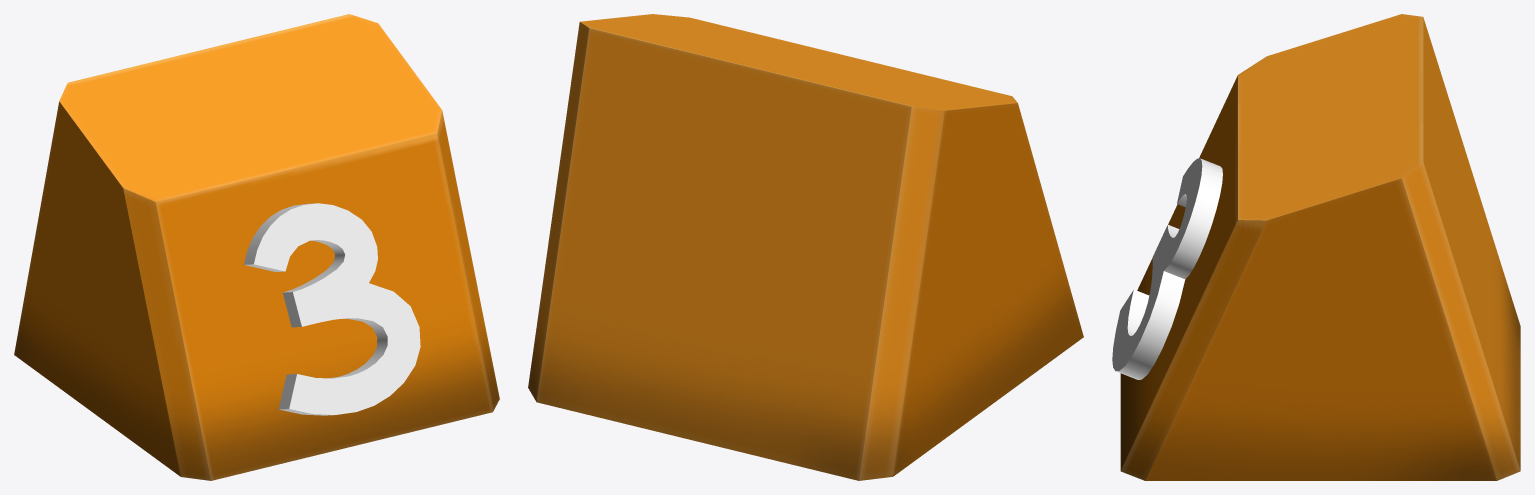
File: hole3Mesh.FBX
3 renders of one model, left to right at view 1: azimuth 30°, elevation 25°; view 2: azimuth 150°, elevation 25°; view 3: azimuth 270°, elevation 25°, orthographic. The views are drawn at different scales.
Visible parts, largest first — view 1: holeNumber3; view 2: holeNumber3; view 3: holeNumber3.
Part boxes in pixels (x1,y1,x2,y2): holeNumber3: (14,14,499,480); holeNumber3: (528,14,1083,480); holeNumber3: (1112,14,1520,480).
Bounding box in the file's own units: 2026 × 1779 × 2128.
